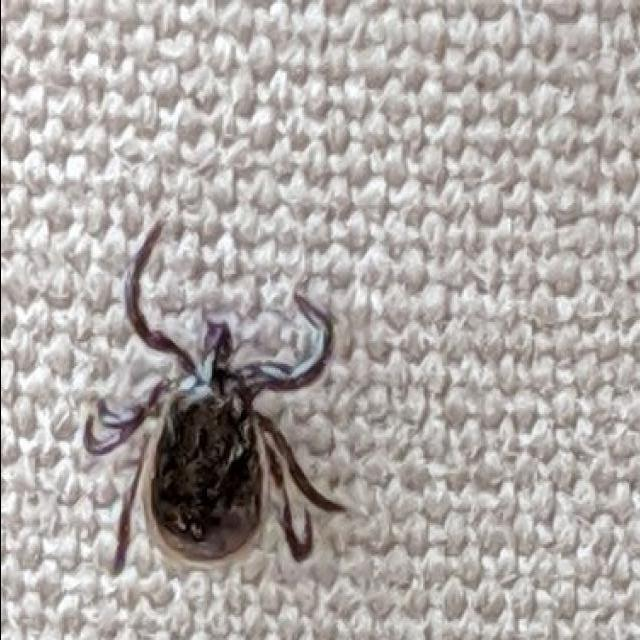Ixodes Ricinus-M: (80, 222, 344, 577)
